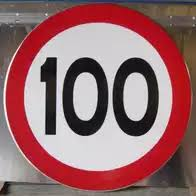Speed_limit_100km: (3, 4, 193, 192)
